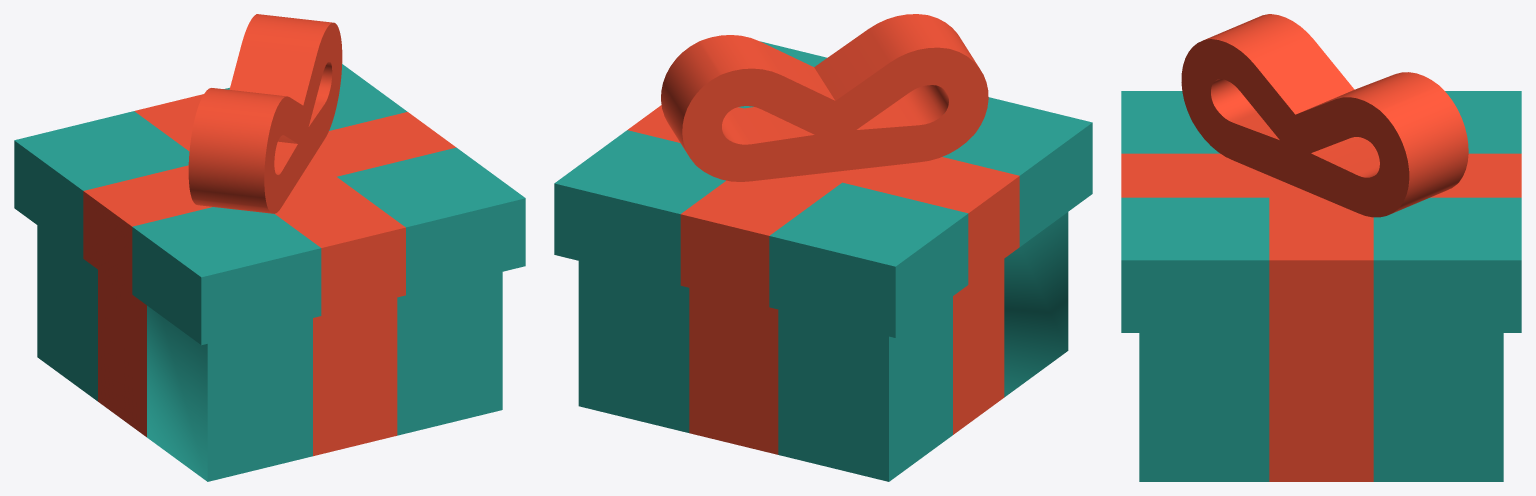
The model's file is presentGreen.fbx.
3 views of the same model, side by side, from view 1: azimuth 30°, elevation 25°; view 2: azimuth 150°, elevation 25°; view 3: azimuth 270°, elevation 25° (orthographic). The views are drawn at different scales.
Visible parts, largest first — view 1: lid, presentGreen; view 2: lid, presentGreen; view 3: lid, presentGreen.
Boxes of the visible parts, box(x1,y1,x2,y2) form: lid: box(14, 14, 525, 345); presentGreen: box(37, 225, 502, 481); lid: box(554, 14, 1092, 337); presentGreen: box(578, 212, 1068, 481); lid: box(1121, 14, 1521, 332); presentGreen: box(1139, 333, 1503, 481).
Size of the model in its own units: 3.73 by 3.54 by 3.73.
